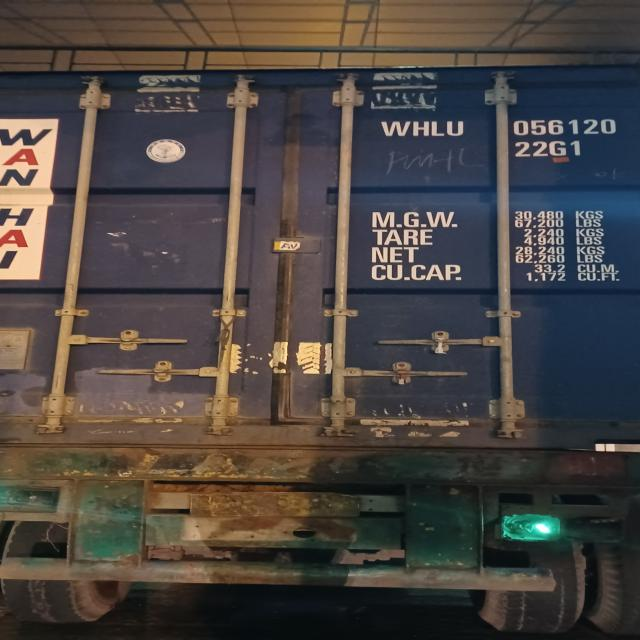seal: (390, 367, 412, 386), (436, 336, 451, 356)
